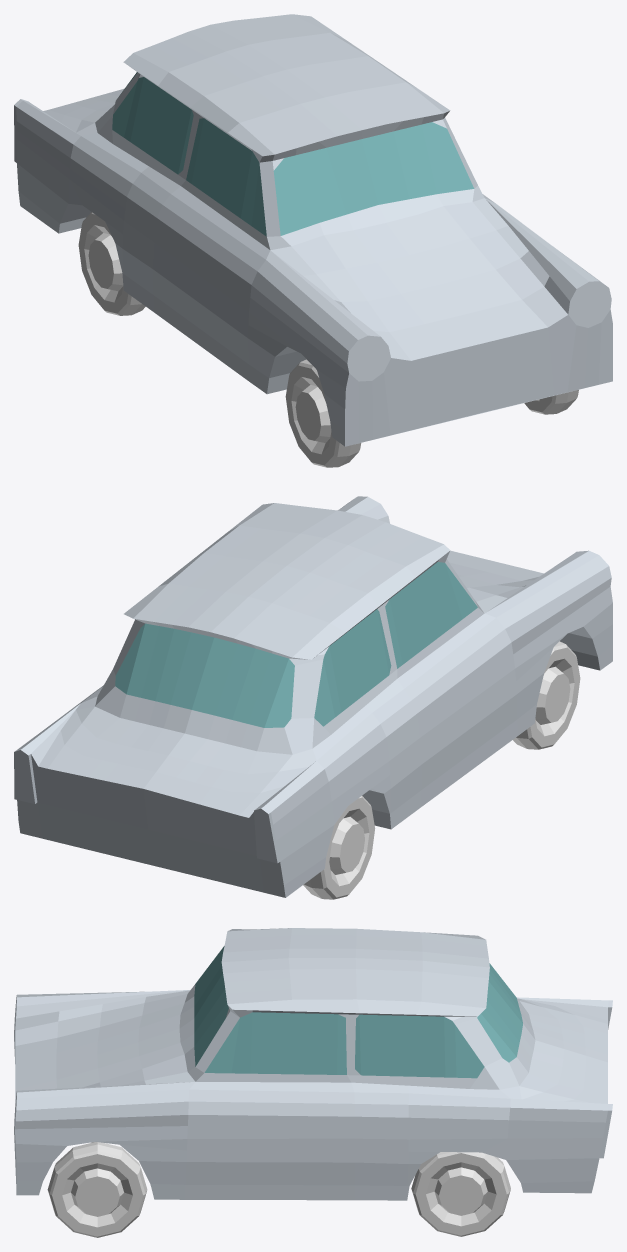
Rendered from NEWPROJECT.fbx.
The picture shows the model from 3 angles, top to bottom: view 1: azimuth 30°, elevation 25°; view 2: azimuth 150°, elevation 25°; view 3: azimuth 270°, elevation 25°; orthographic projection. The views are drawn at different scales.
Visible parts, largest first — view 1: Plane, Circle.001, Circle.003, Circle.002; view 2: Plane, Circle.003, Circle.001; view 3: Plane, Circle.002, Circle.000.
Part boxes in pixels (bbox=[...]): Plane: bbox=[14, 14, 612, 446]; Circle.001: bbox=[285, 359, 361, 467]; Circle.003: bbox=[78, 212, 145, 315]; Circle.002: bbox=[524, 390, 578, 414]; Plane: bbox=[14, 496, 612, 897]; Circle.003: bbox=[303, 796, 375, 899]; Circle.001: bbox=[513, 641, 580, 749]; Plane: bbox=[14, 928, 612, 1200]; Circle.002: bbox=[47, 1142, 147, 1237]; Circle.000: bbox=[411, 1152, 510, 1236].
Bounding box in the file's own units: 8.74 × 8.07 × 19.08.
